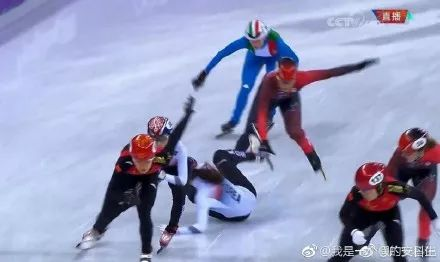fall: (167, 133, 278, 238)
